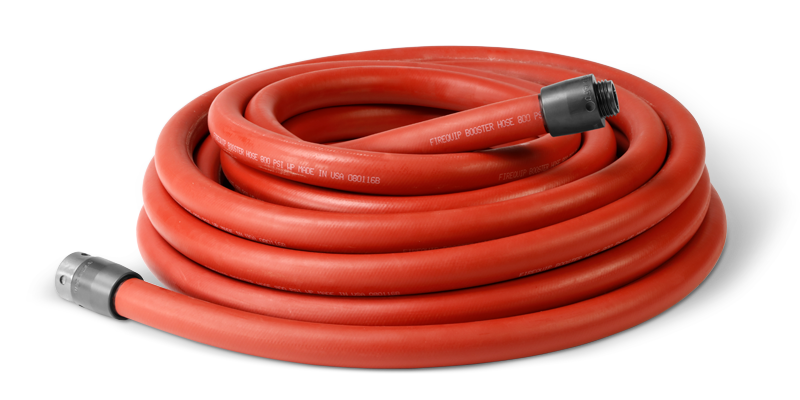Nonrec_Tangler: (34, 21, 766, 354)
